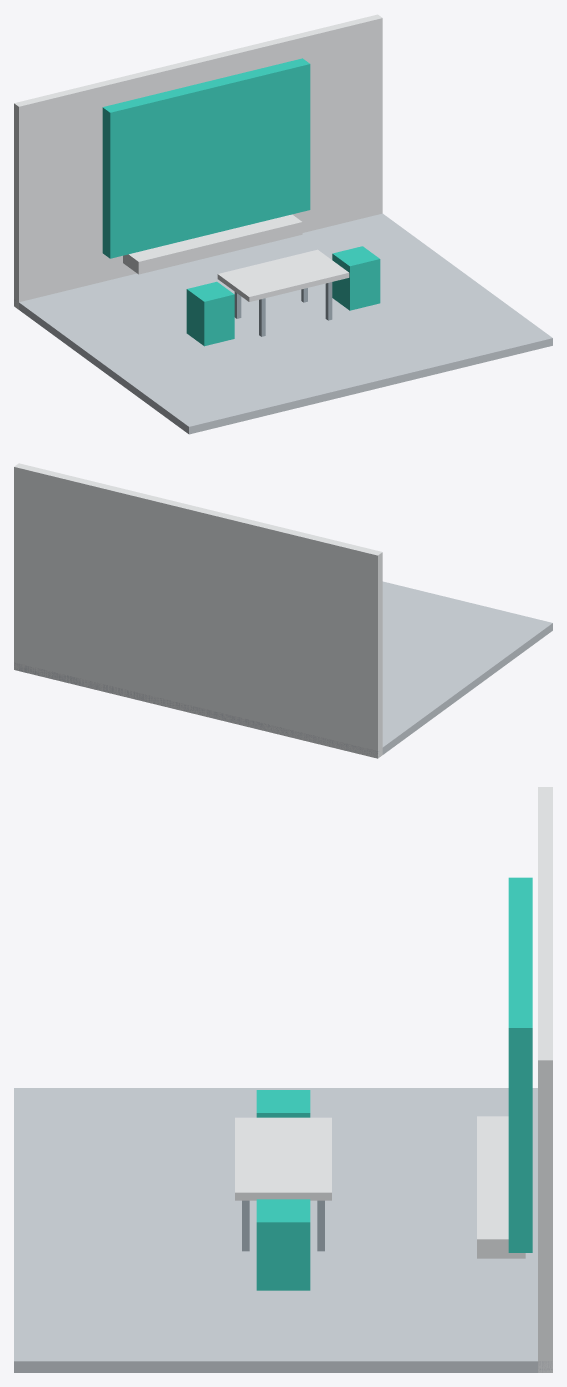
3 renders of one model, top to bottom at view 1: azimuth 30°, elevation 25°; view 2: azimuth 150°, elevation 25°; view 3: azimuth 270°, elevation 25°, orthographic. The views are drawn at different scales.
Parts seen in each view (by area): view 1: Exhibition Booth Concept; view 2: Exhibition Booth Concept; view 3: Exhibition Booth Concept.
Boxes of the visible parts, x1,y1,x2,y2 form: Exhibition Booth Concept: (14, 14, 552, 434); Exhibition Booth Concept: (14, 463, 552, 758); Exhibition Booth Concept: (14, 787, 552, 1372).
Bounding box in the file's own units: 6 × 3.2 × 5.
